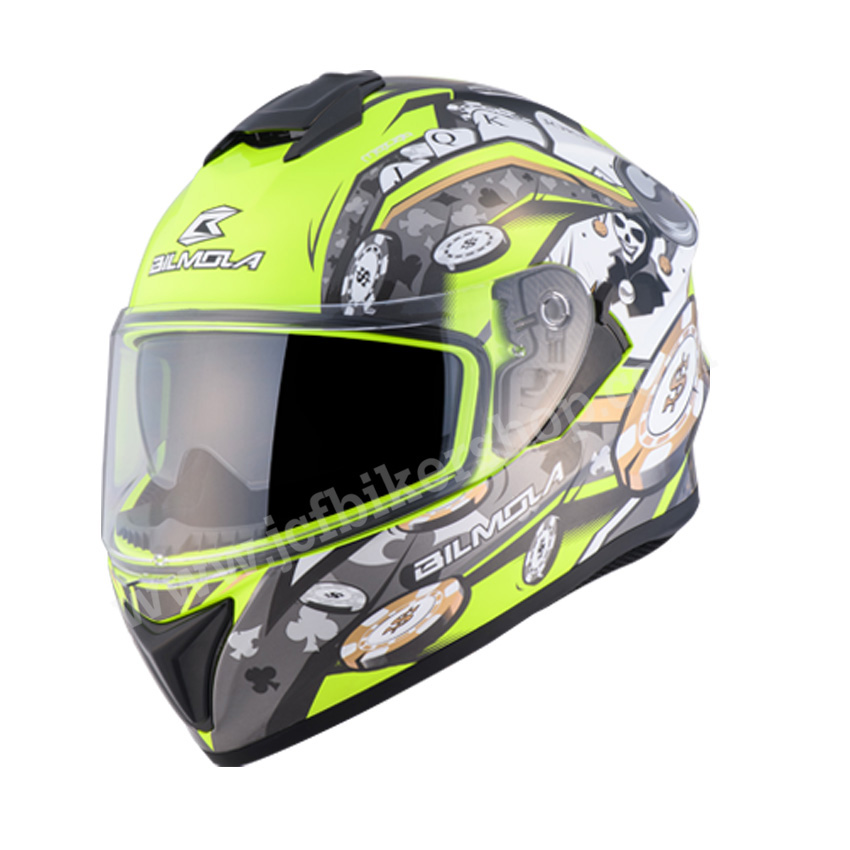helmet: (101, 72, 711, 766)
